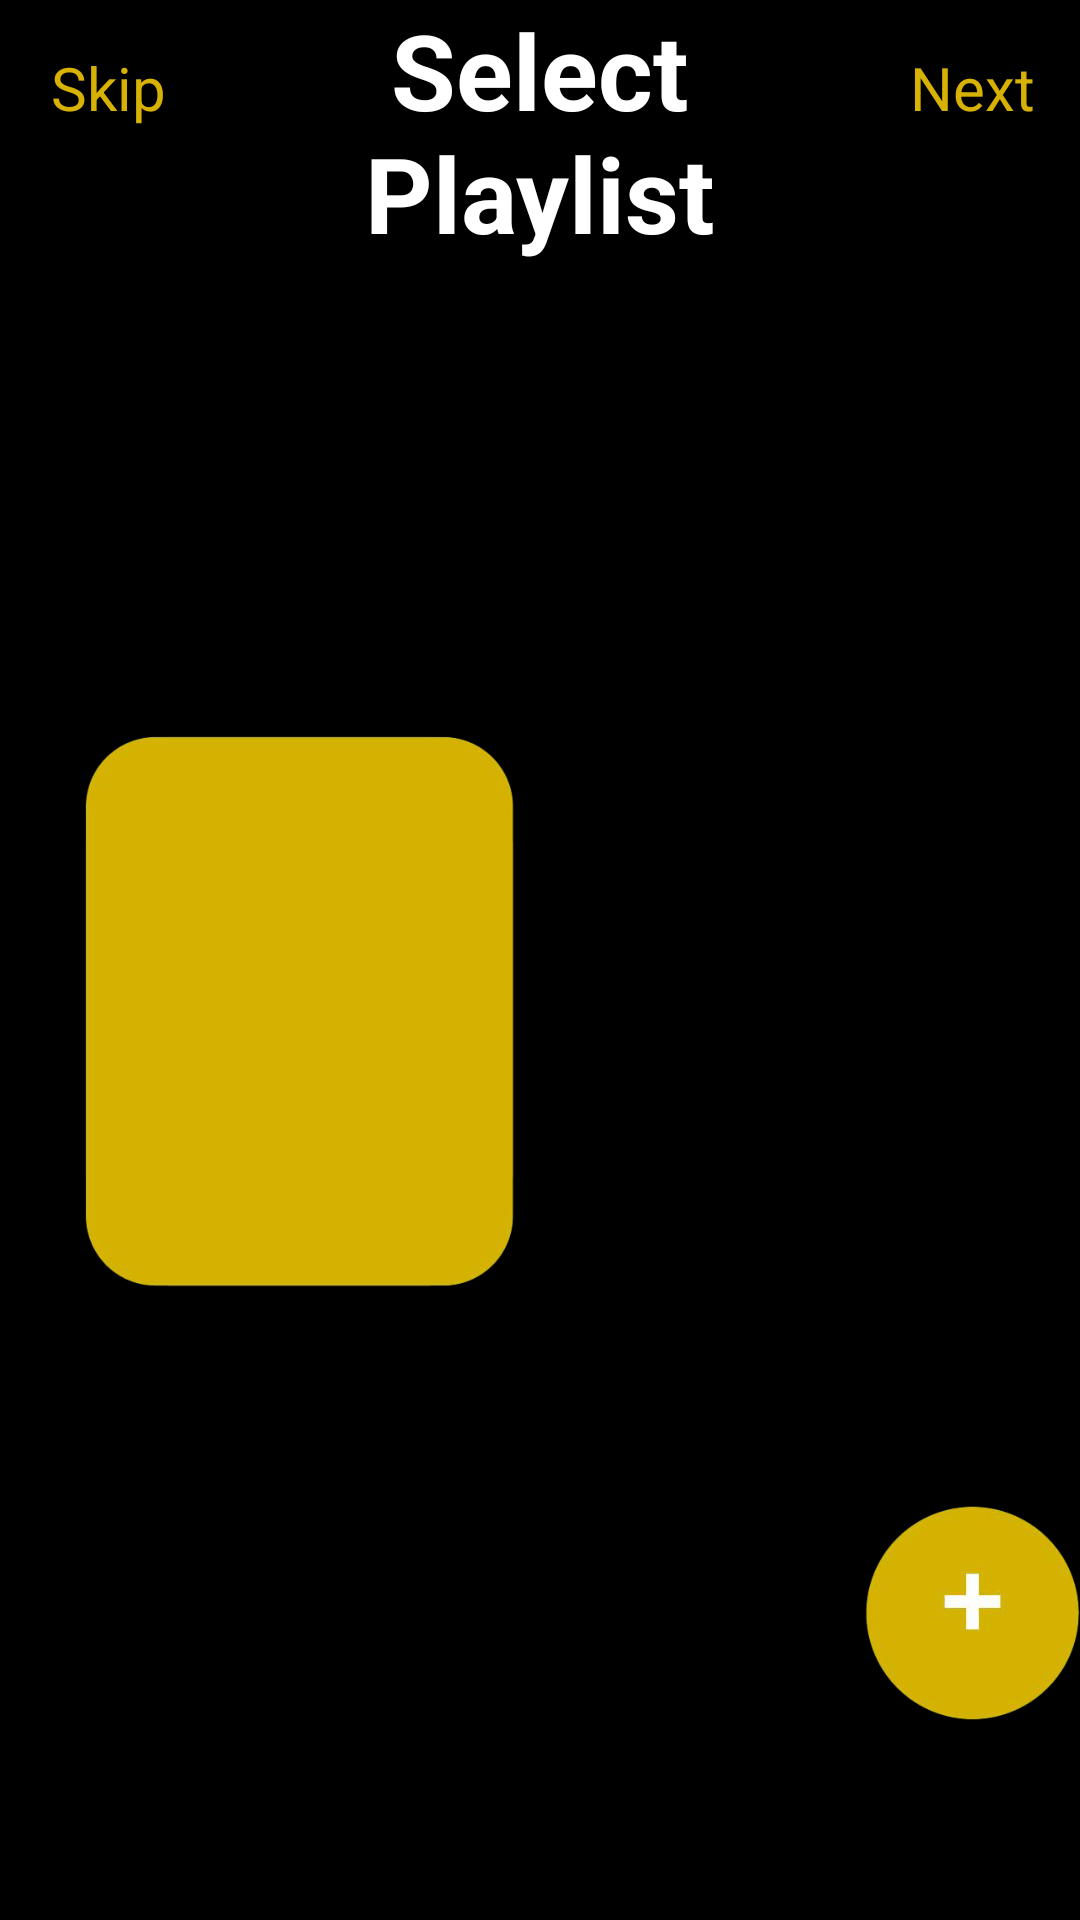

Icon bounding boxes for this 1080px×1920px phone screenshot, format (x1, y1, x2, y2):
addcircle: (866, 1506, 1080, 1720)
